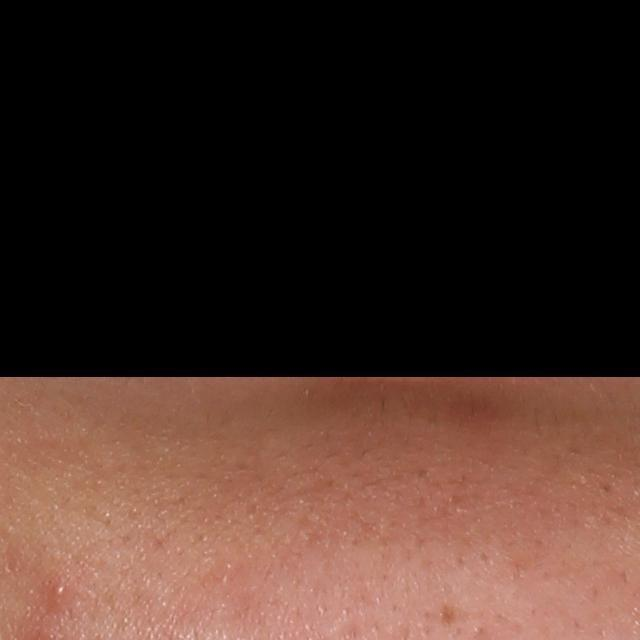papule: (45, 576, 75, 610)
